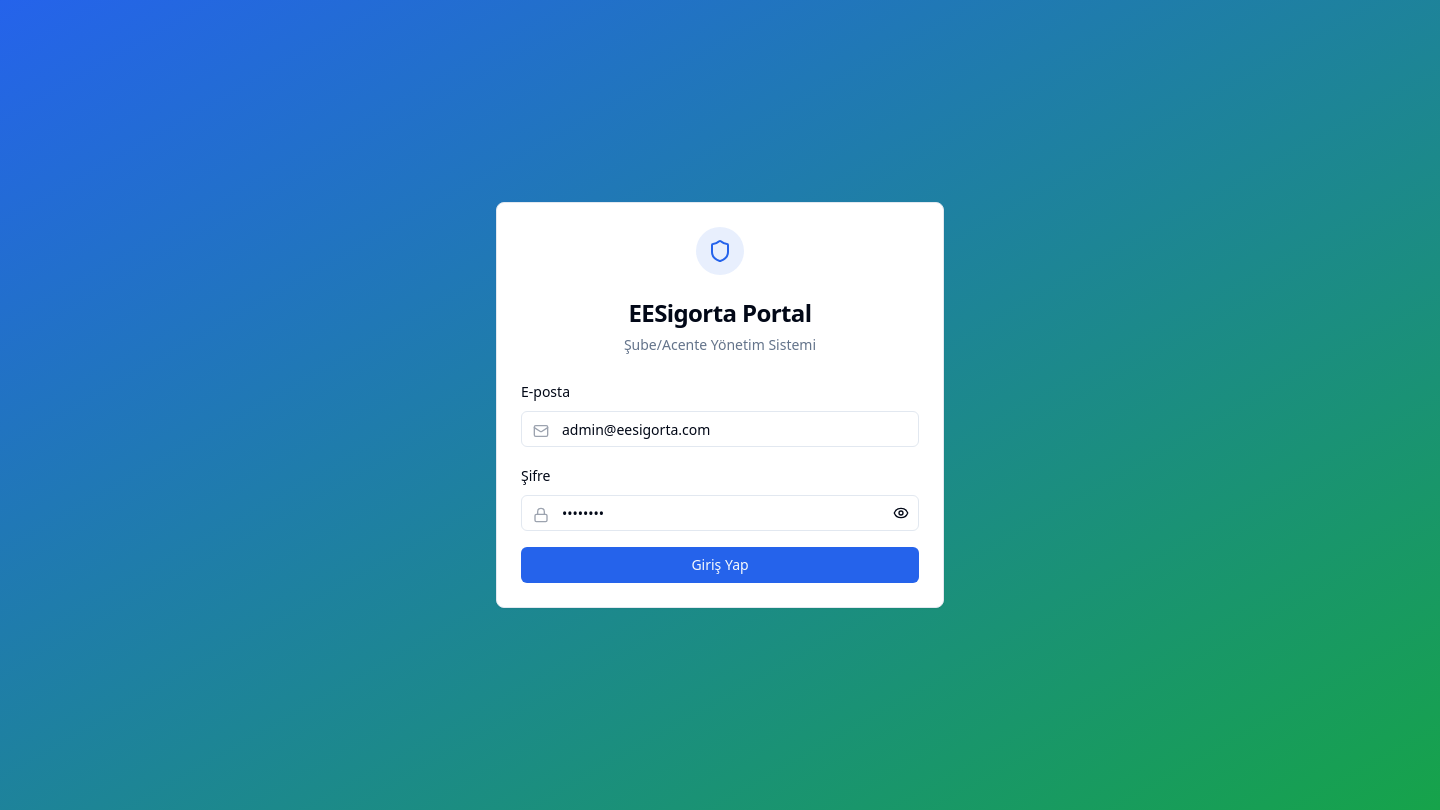
Test: LoginPage › toggles password visibility
The image size is (1440, 810).
Click the 1st button at (901, 513), box top-left (883, 495), bottom-right (919, 531)
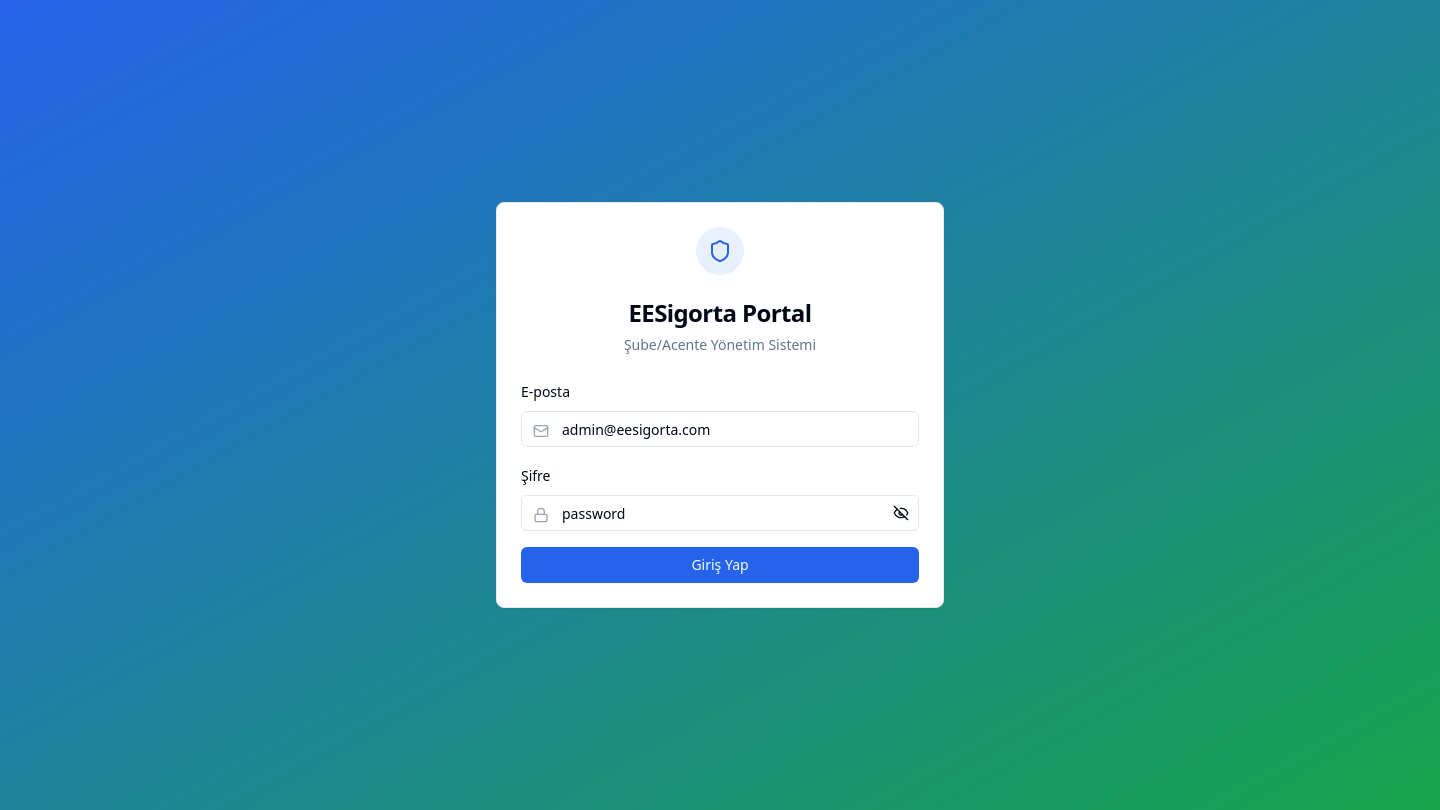
Now the field labelled "Şifre" shows its text, box top-left (521, 495), bottom-right (919, 531)
Click the 1st button at (901, 513), box top-left (883, 495), bottom-right (919, 531)
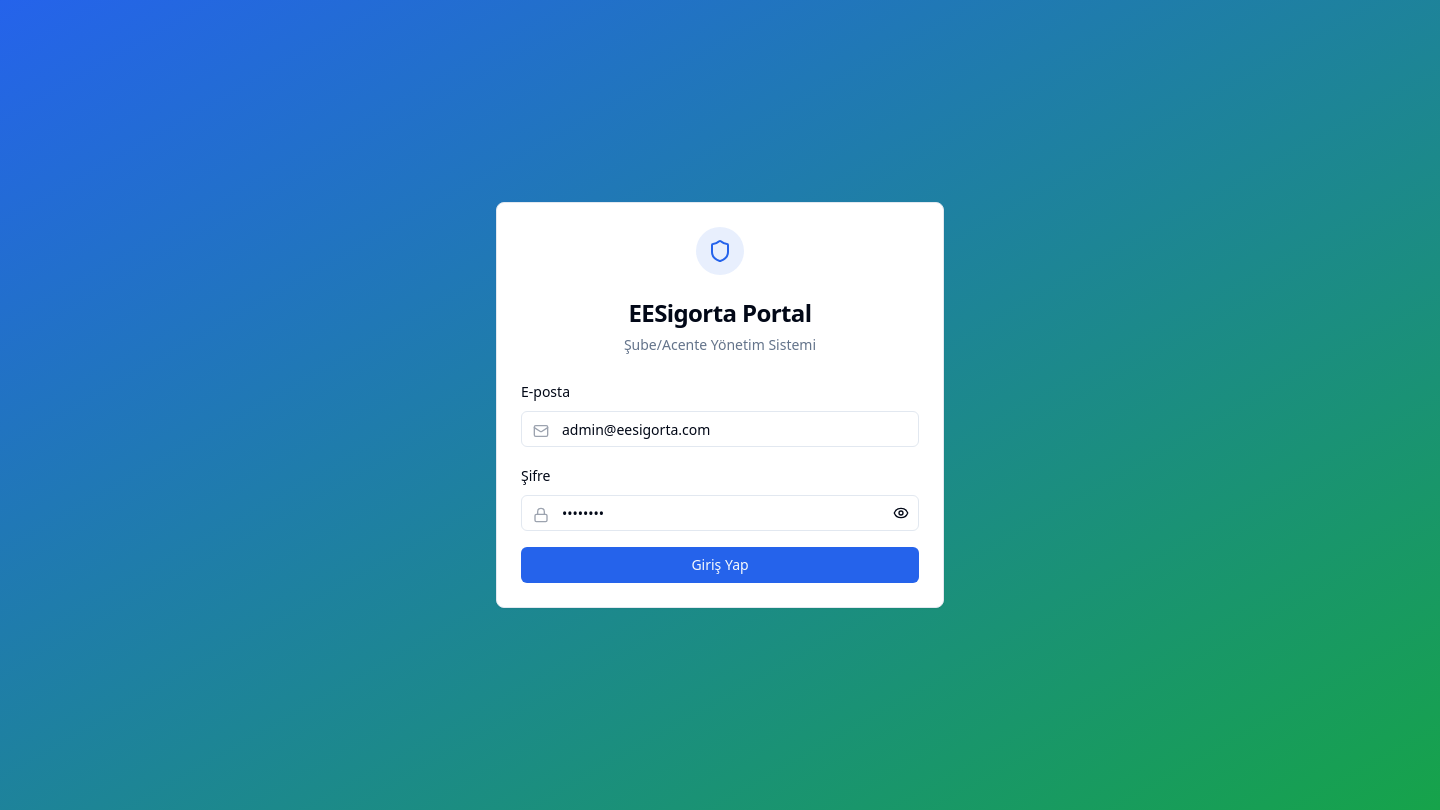
Now the password field labelled "Şifre" hides its text, box top-left (521, 495), bottom-right (919, 531)
